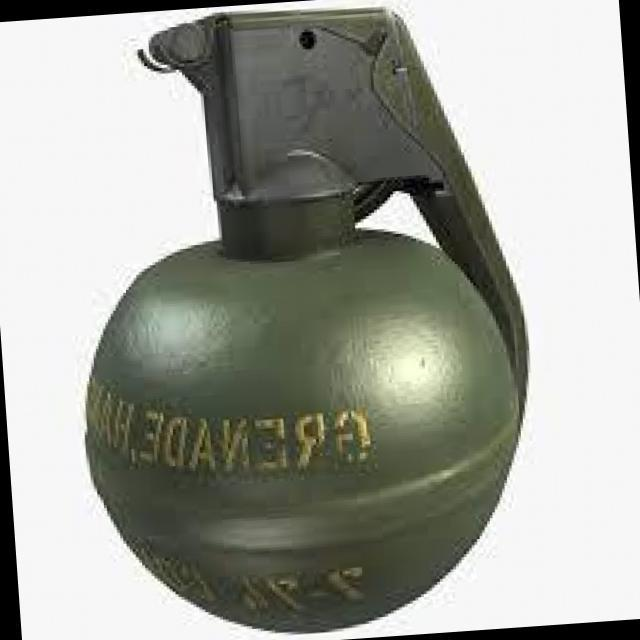grenade: (62, 9, 550, 640)
